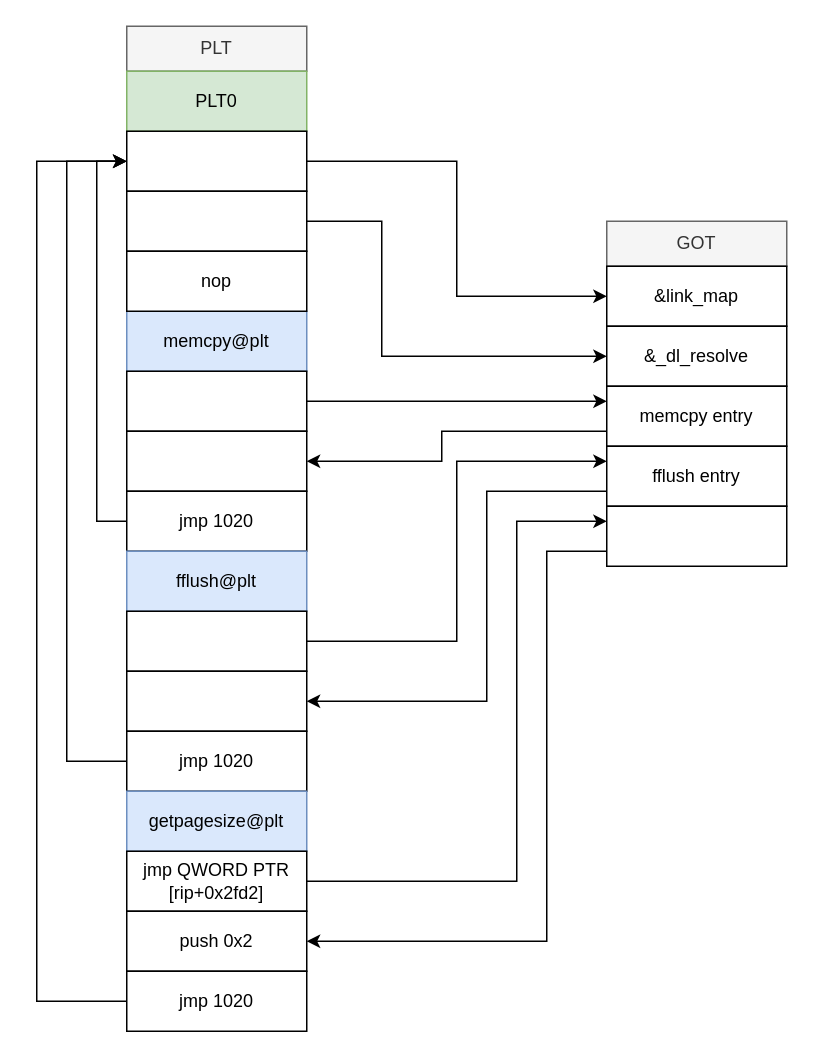
Image size: 813x1058. Some labels were removed from this diagram. The centre of each missing label's shape, as x and y in pixels:
getpagesize entry: (696,535)
jmp [rip+0x2fe4]: (216,220)
jmp [rip+0x2fef]: (216,400)
jmp QWORD PTR [rip+0x2fda]: (216,640)
push 0x0: (216,460)
push 0x1: (216,700)
push [rip+0x2fe2]: (216,160)
